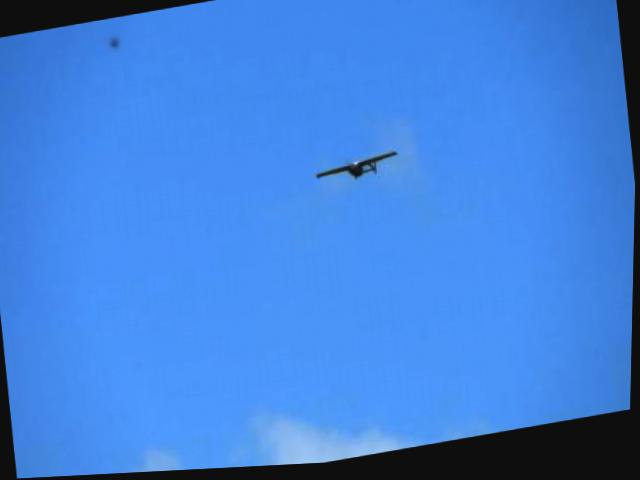uav: (309, 140, 404, 197)
